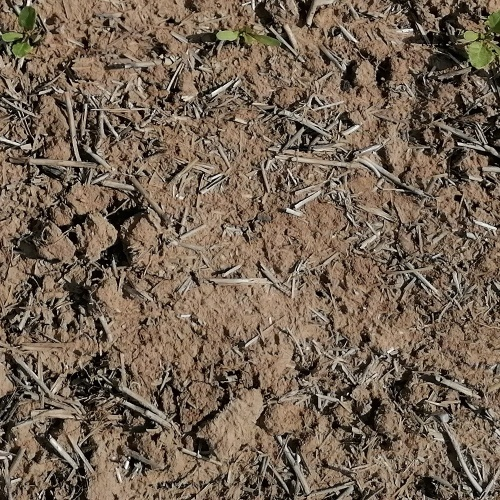beet: (465, 12, 500, 69), (0, 6, 36, 58), (216, 25, 280, 47)
